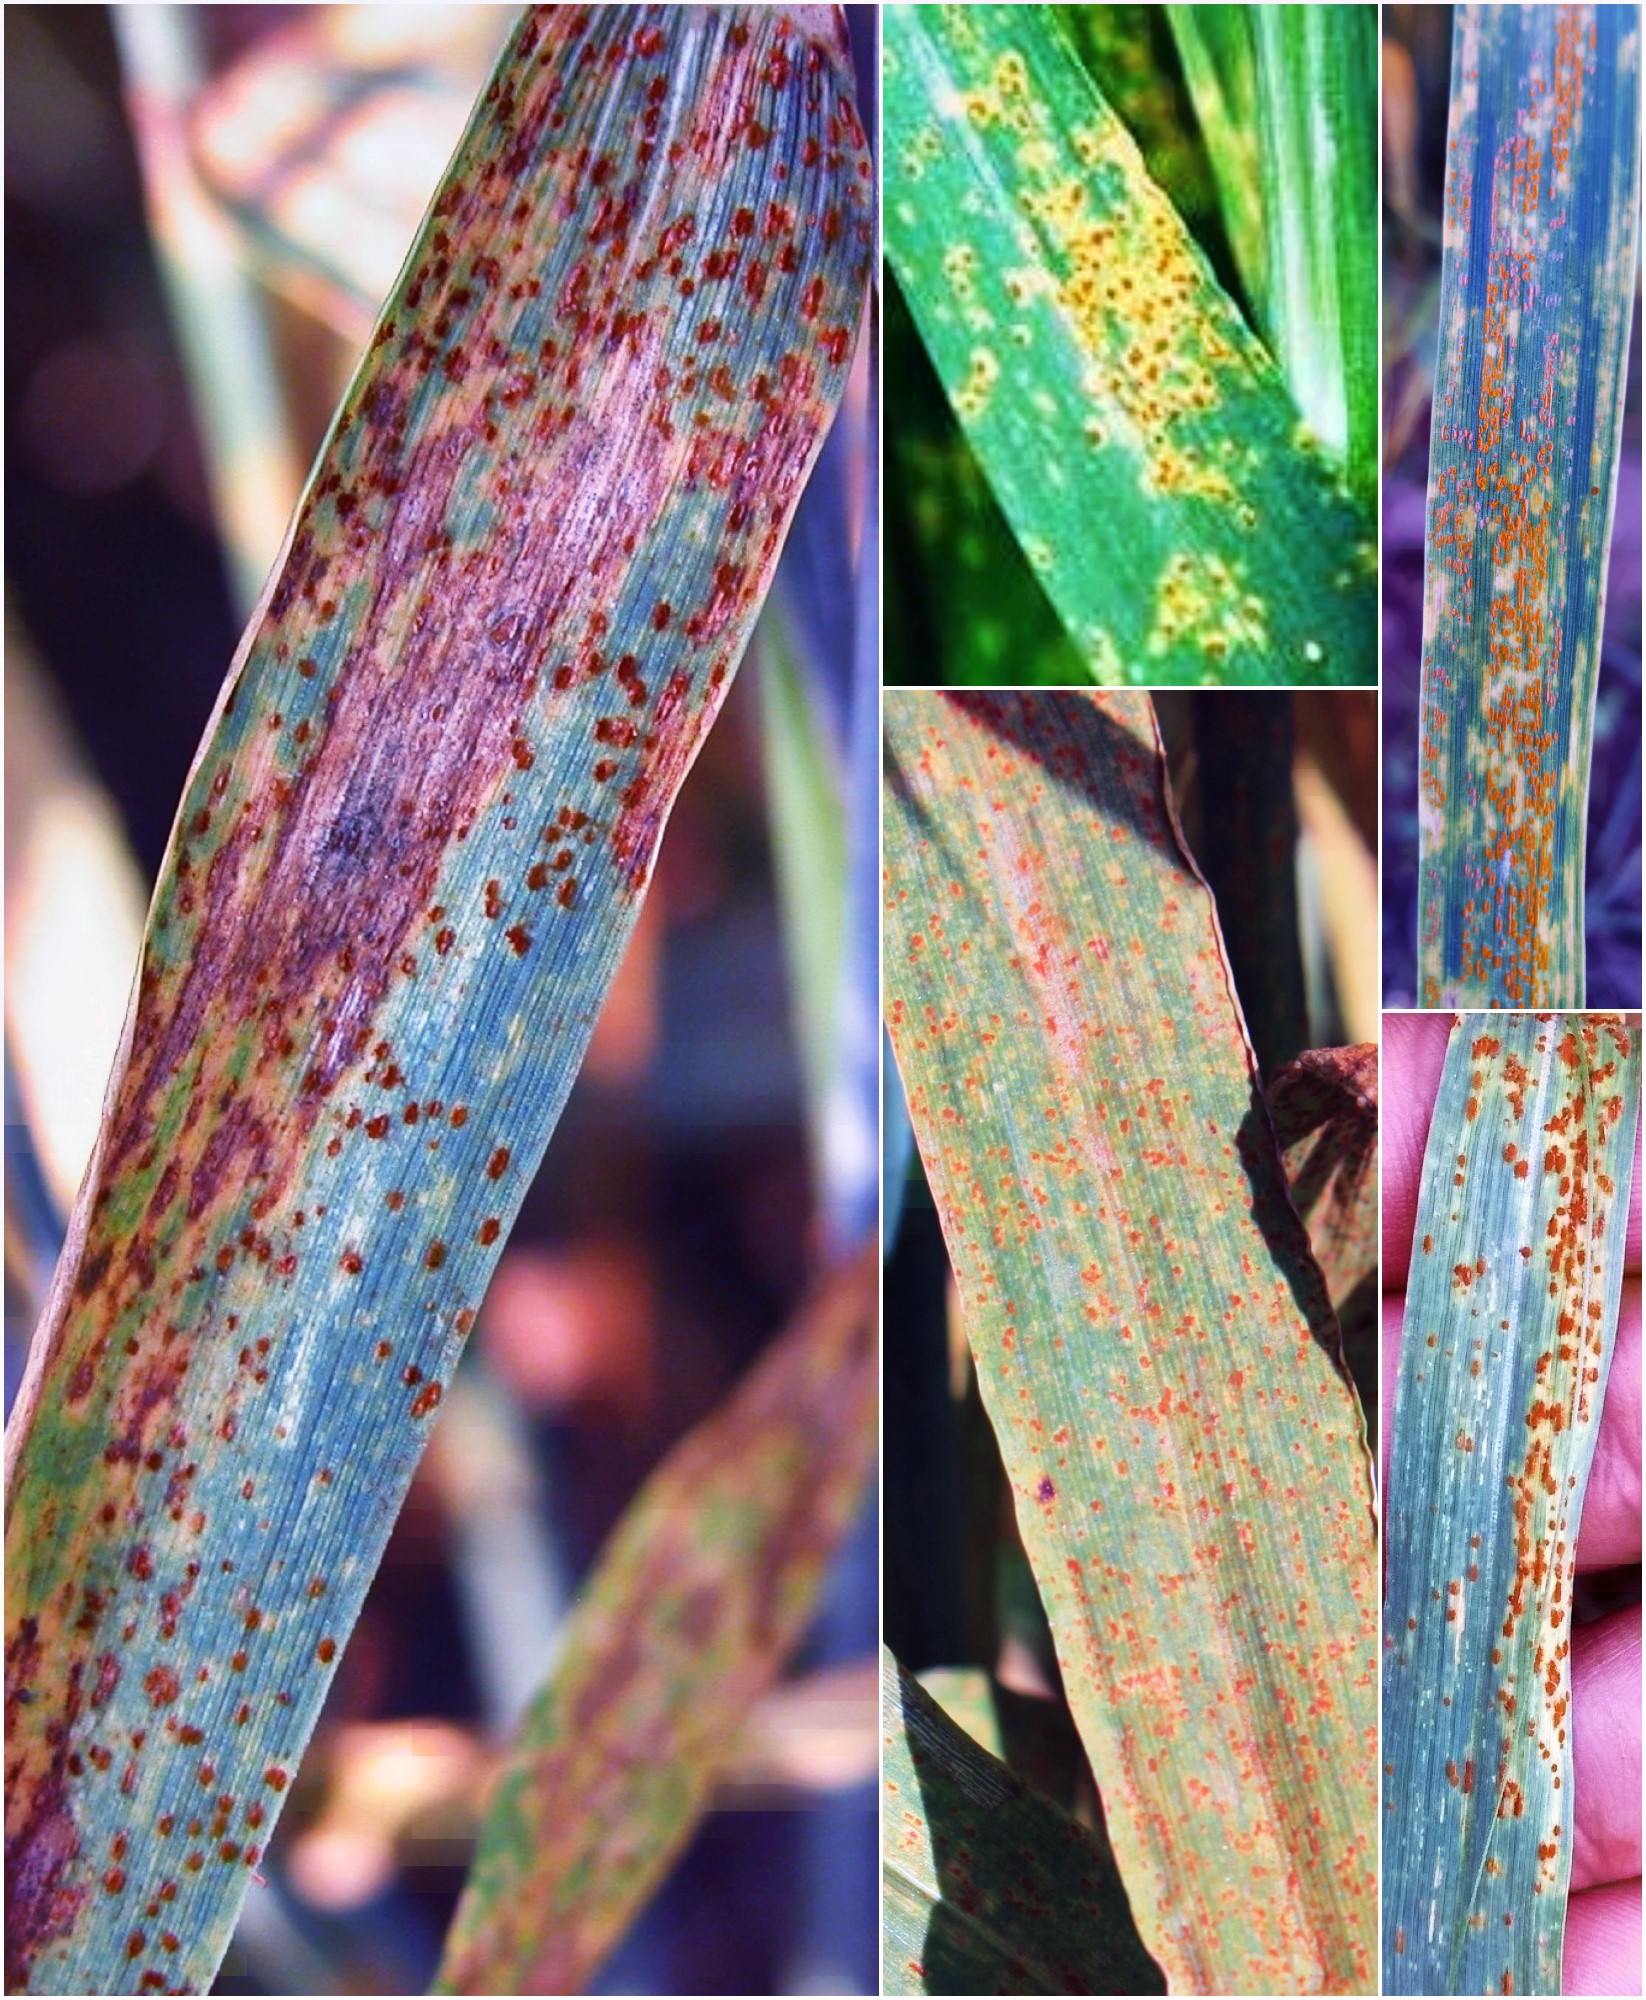Leaf Rust: (23, 65, 817, 1566), (930, 860, 1364, 1867), (1413, 37, 1646, 967), (1415, 1105, 1644, 1864), (930, 90, 1269, 542)
